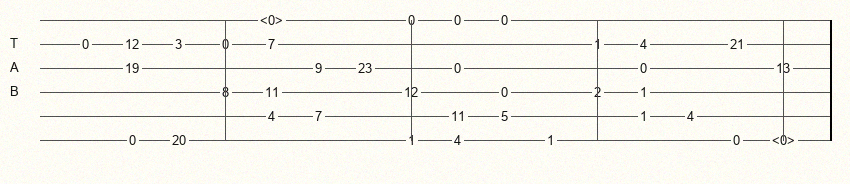0: (82, 37, 93, 51), (129, 133, 140, 147), (222, 37, 233, 51), (408, 13, 419, 27), (454, 13, 465, 27), (454, 61, 465, 75), (501, 13, 512, 27), (501, 85, 512, 99), (640, 61, 651, 75), (733, 133, 744, 147)
1: (408, 133, 419, 147), (547, 133, 558, 147), (594, 37, 605, 51), (640, 85, 651, 99), (640, 109, 651, 123)
11: (265, 85, 283, 99), (451, 109, 469, 123)
12: (125, 37, 143, 51), (404, 85, 422, 99)
13: (776, 61, 794, 75)
19: (125, 61, 143, 75)
2: (594, 85, 605, 99)
20: (172, 133, 190, 147)
21: (730, 37, 748, 51)
23: (358, 61, 376, 75)
3: (175, 37, 186, 51)
4: (268, 109, 279, 123), (454, 133, 465, 147), (640, 37, 651, 51), (687, 109, 698, 123)
5: (501, 109, 512, 123)
7: (268, 37, 279, 51), (315, 109, 326, 123)
8: (222, 85, 233, 99)
9: (315, 61, 326, 75)
harmonic: (260, 13, 287, 27), (772, 133, 799, 147)
